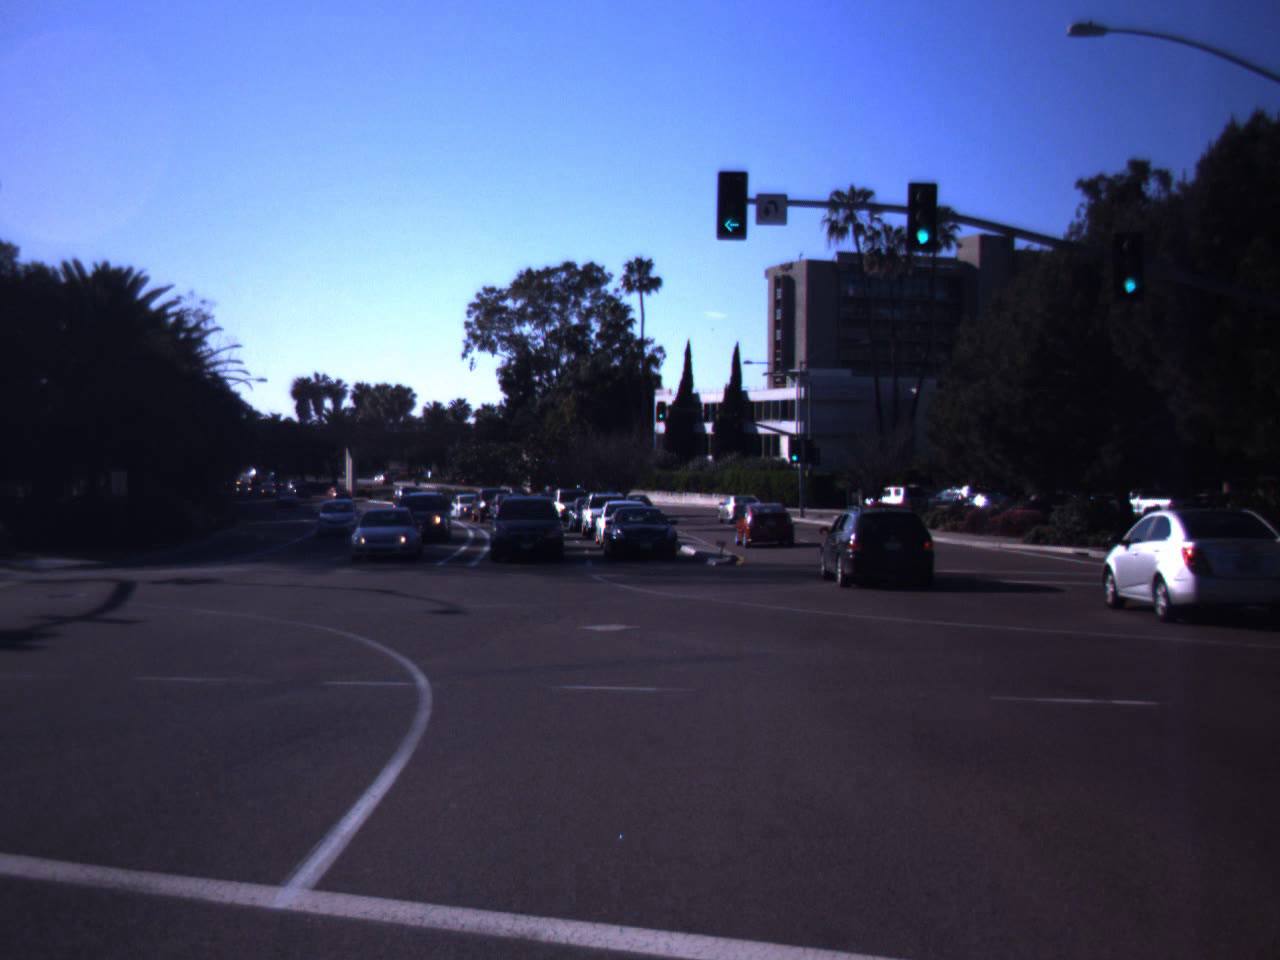go: (706, 168, 754, 238), (911, 201, 935, 246), (1122, 255, 1140, 295)
